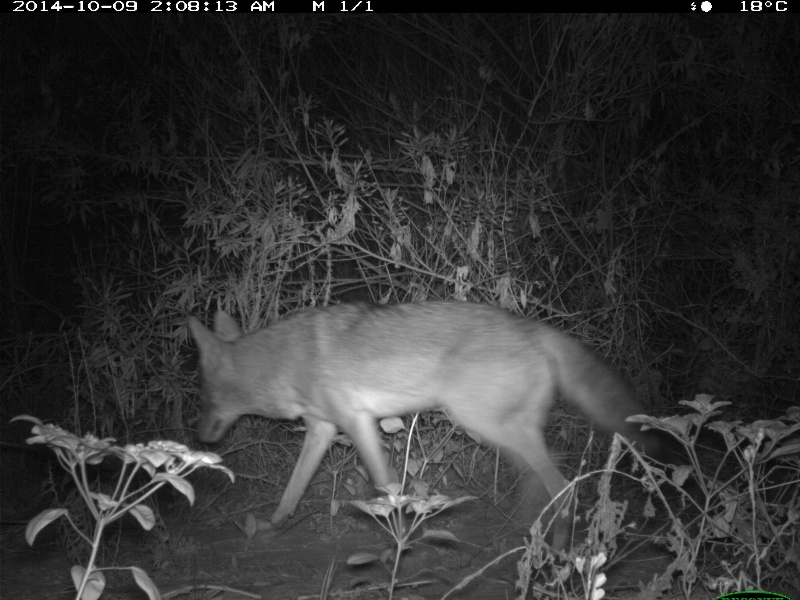coyote: (186, 304, 669, 537)
